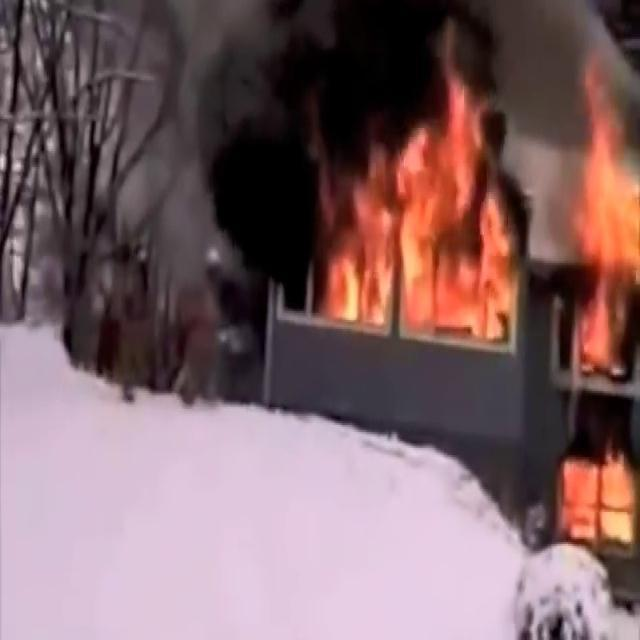Fire: (312, 59, 522, 353), (572, 58, 640, 378), (564, 442, 640, 548)
Smoke: (122, 0, 338, 322)
